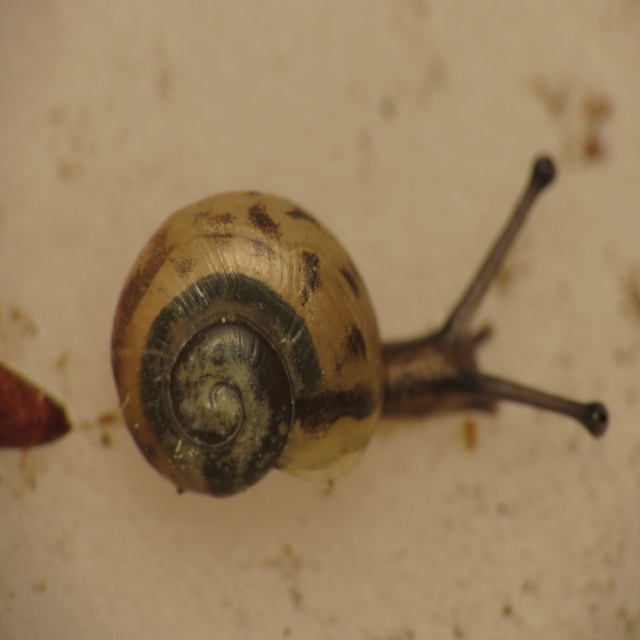Snail: (108, 149, 610, 501)
